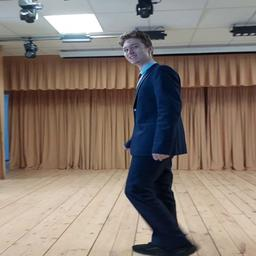person: (122, 33, 197, 253)
